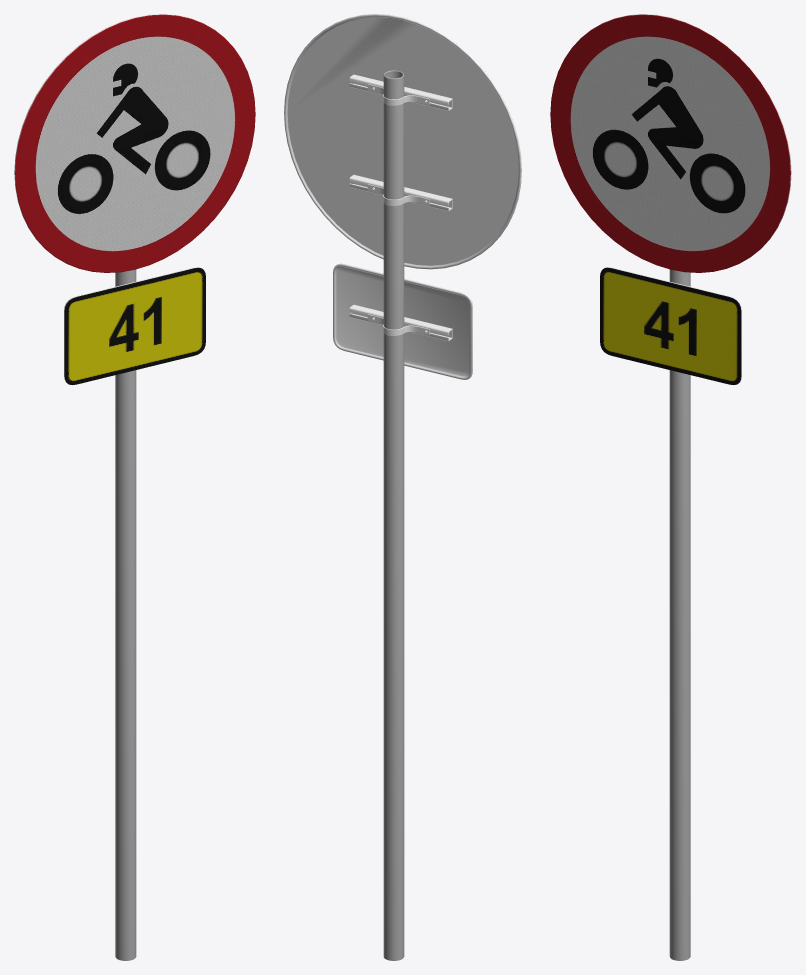
File: sign-eu-12.glb
The picture shows the model from 3 angles, left to right: view 1: azimuth 30°, elevation 25°; view 2: azimuth 150°, elevation 25°; view 3: azimuth 330°, elevation 25°; orthographic projection.
Parts seen in each view (by area): view 1: vm_ST_sign_12; view 2: vm_ST_sign_12; view 3: vm_ST_sign_12.
Boxes of the visible parts, x1,y1,x2,y2 form: vm_ST_sign_12: (14, 14, 255, 960); vm_ST_sign_12: (284, 14, 521, 960); vm_ST_sign_12: (550, 14, 791, 960).
Bounding box in the file's own units: 0.7677 × 2.88 × 0.0845.
Materials: 4 (2 with a texture image).
